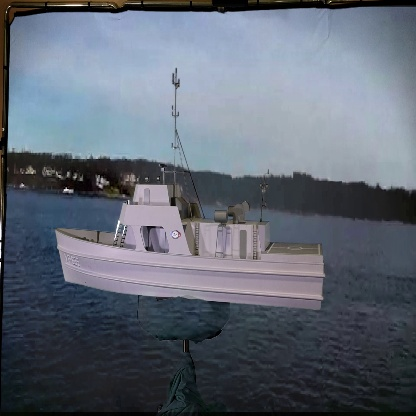YP689: (54, 54, 327, 313)
